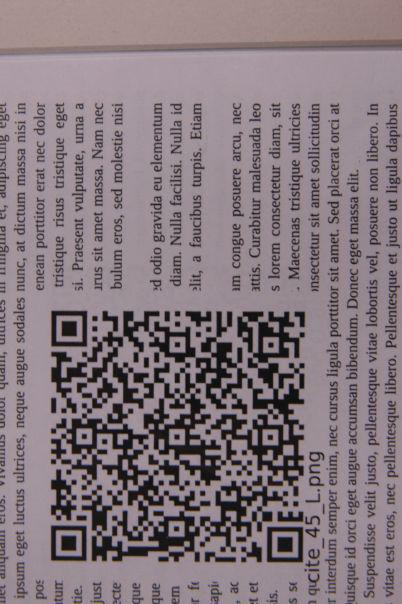Finder pattern: (43, 305, 94, 351), (260, 518, 306, 568), (45, 521, 91, 565)
